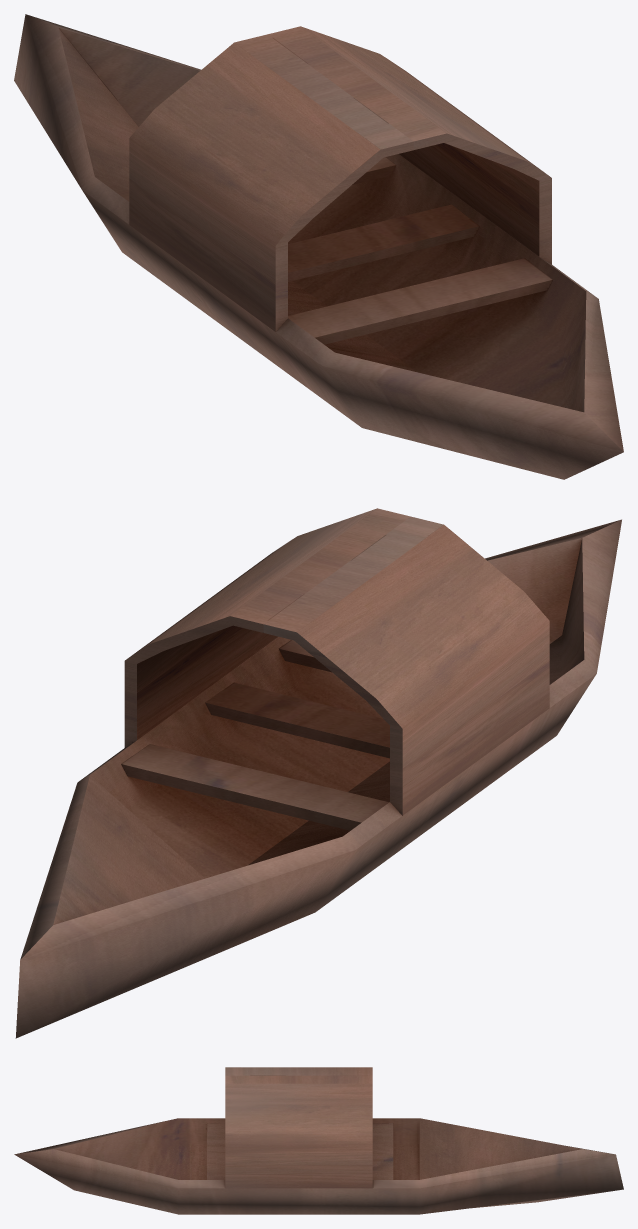
File: ChineseBoat.fbx
3 renders of one model, top to bottom at view 1: azimuth 30°, elevation 25°; view 2: azimuth 150°, elevation 25°; view 3: azimuth 270°, elevation 25°, orthographic. The views are drawn at different scales.
Visible parts, largest first — view 1: Cube, Cube_001; view 2: Cube, Cube_001; view 3: Cube, Cube_001.
Boxes of the visible parts, box(x1,y1,x2,y2) form: Cube: box(14, 14, 623, 479); Cube_001: box(129, 26, 551, 331); Cube: box(15, 519, 621, 1038); Cube_001: box(124, 508, 549, 815); Cube: box(14, 1118, 623, 1214); Cube_001: box(225, 1067, 372, 1188).
Size of the model in its own units: 2.29 by 2.03 by 8.69.
Materials: 2 (2 with a texture image).
